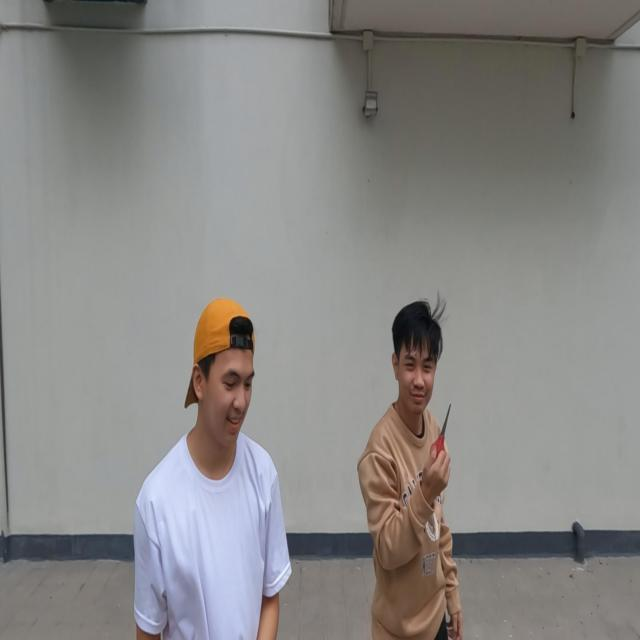scissor: (429, 401, 452, 458)
